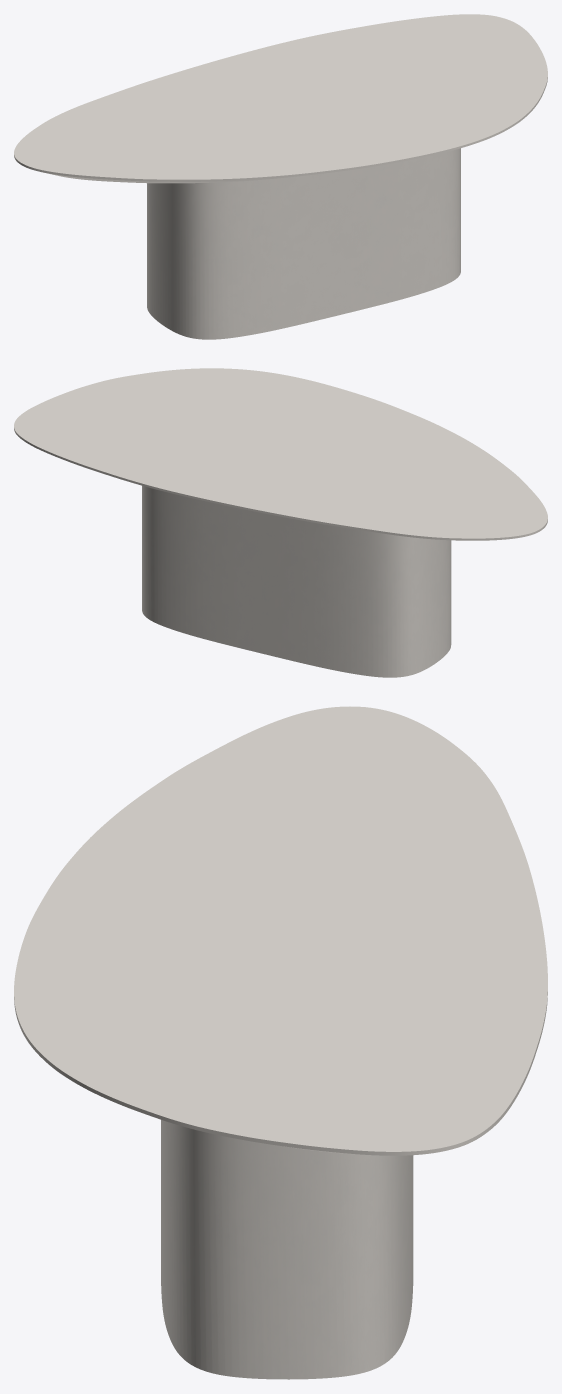
The model's file is pearlwhite_pebbletop_facet_fixed.glb.
3 views of the same model, one above another, from view 1: azimuth 30°, elevation 25°; view 2: azimuth 150°, elevation 25°; view 3: azimuth 270°, elevation 25° (orthographic). The views are drawn at different scales.
Parts seen in each view (by area): view 1: facet_pebbletop, fixed; view 2: facet_pebbletop, fixed; view 3: facet_pebbletop, fixed.
Boxes of the visible parts, x1,y1,x2,y2 form: facet_pebbletop: (14, 14, 547, 183); fixed: (147, 148, 460, 339); facet_pebbletop: (14, 368, 547, 540); fixed: (142, 485, 451, 677); facet_pebbletop: (14, 706, 547, 1155); fixed: (161, 1120, 413, 1379).
Bounding box in the file's own units: 7.5 × 2.5 × 3.8.
1 material, 1 textured.
